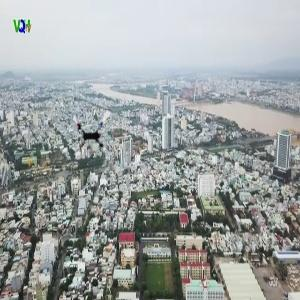drone: (69, 104, 122, 157)
